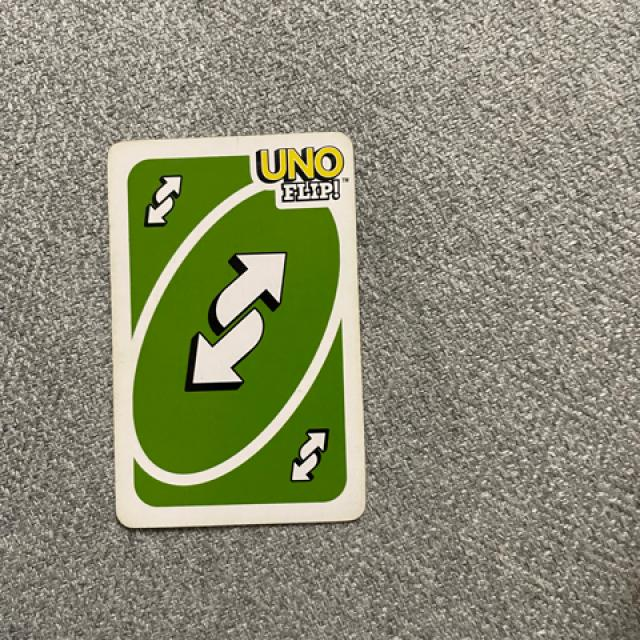lgreenrevers-20: (122, 152, 206, 240)
